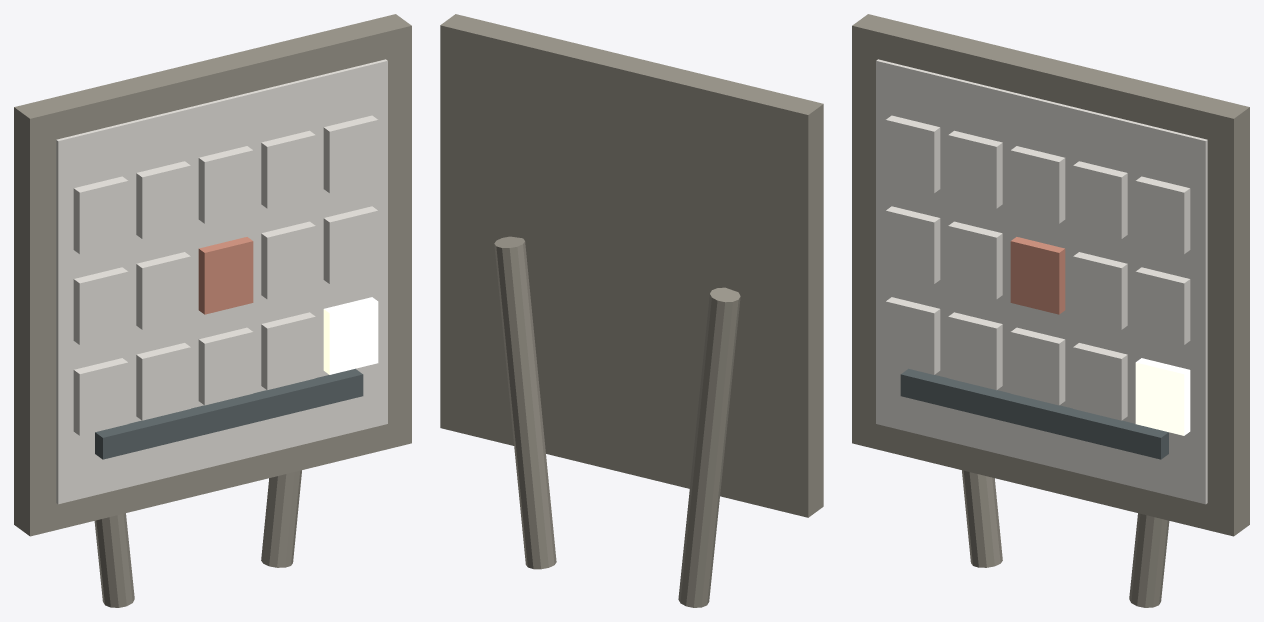
The model's file is LM07_Paiban.glb.
The picture shows the model from 3 angles, left to right: view 1: azimuth 30°, elevation 25°; view 2: azimuth 150°, elevation 25°; view 3: azimuth 330°, elevation 25°; orthographic projection. The views are drawn at different scales.
Visible parts, largest first — view 1: BoardFace, BoardFrame, Paperweight, Type0_0, Type0_4, Type0_2, Type2_2, Type2_4, Type1_0, Type1_2, Type2_0, Type1_4 (+8 smaller); view 2: BoardFrame, StandR, StandL; view 3: BoardFace, BoardFrame, Paperweight, Type0_0, Type0_4, Type0_2, Type2_0, Type2_2, Type1_2, Type1_4, Type2_4, Type1_0 (+8 smaller).
Part boxes in pixels (bbox=[...]): BoardFace: bbox=[56, 59, 387, 504]; BoardFrame: bbox=[14, 14, 411, 536]; Paperweight: bbox=[95, 368, 363, 459]; Type0_0: bbox=[73, 176, 128, 254]; Type0_4: bbox=[323, 115, 378, 193]; Type0_2: bbox=[198, 146, 253, 223]; Type2_2: bbox=[198, 327, 253, 405]; Type2_4: bbox=[323, 297, 378, 374]; Type1_0: bbox=[73, 267, 128, 344]; Type1_2: bbox=[198, 237, 253, 314]; Type2_0: bbox=[73, 358, 128, 435]; Type1_4: bbox=[323, 206, 378, 283]; BoardFrame: bbox=[440, 14, 823, 517]; StandR: bbox=[494, 236, 556, 569]; StandL: bbox=[678, 287, 740, 607]; BoardFace: bbox=[876, 59, 1207, 504]; BoardFrame: bbox=[852, 14, 1249, 536]; Paperweight: bbox=[900, 368, 1168, 459]; Type0_0: bbox=[885, 115, 940, 193]; Type0_4: bbox=[1135, 176, 1190, 254]; Type0_2: bbox=[1010, 146, 1065, 223]; Type2_0: bbox=[885, 297, 940, 374]; Type2_2: bbox=[1010, 327, 1065, 405]; Type1_2: bbox=[1010, 237, 1065, 314]; Type1_4: bbox=[1135, 267, 1190, 344]; Type2_4: bbox=[1135, 358, 1190, 435]; Type1_0: bbox=[885, 206, 940, 283].
Size of the model in its own units: 2.2 by 2.9 by 0.43.
